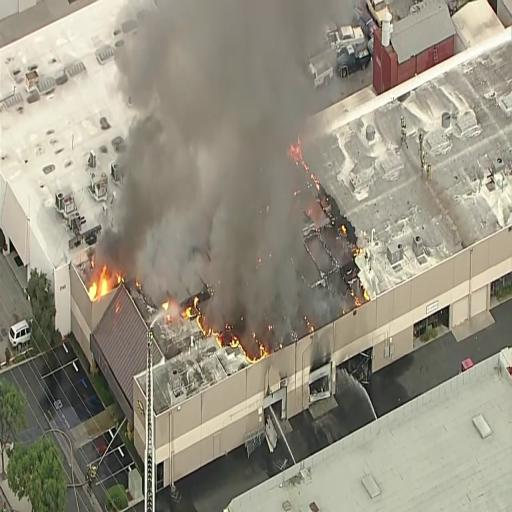fire: (90, 273, 115, 302)
smoke: (134, 0, 274, 243)
